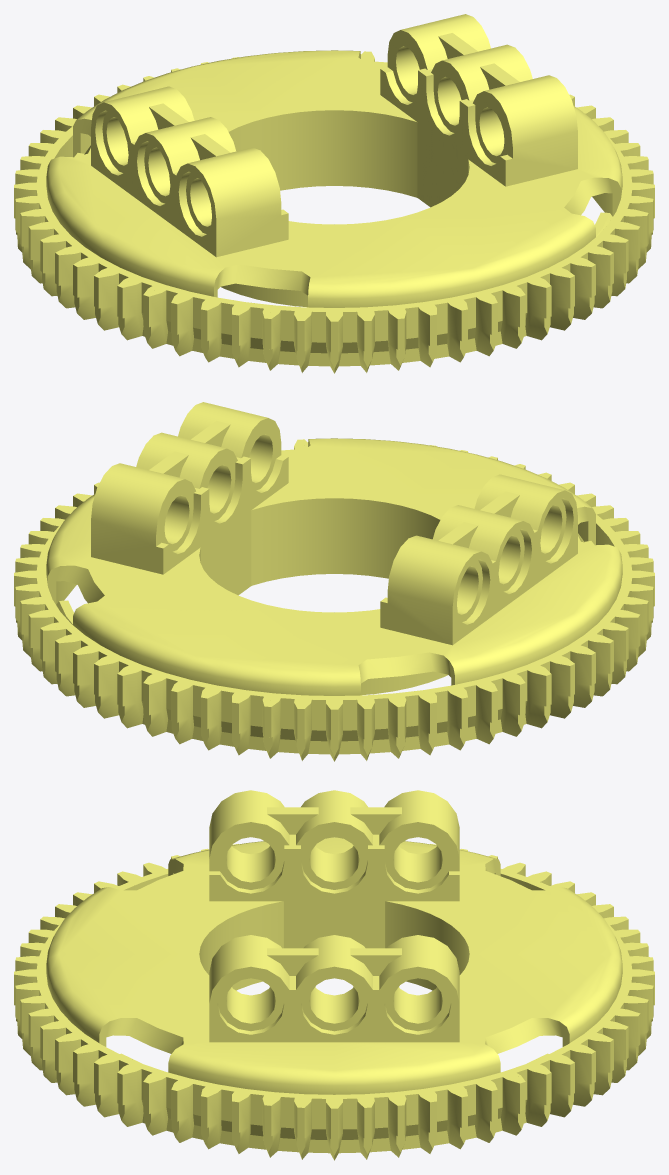
The picture shows the model from 3 angles, top to bottom: view 1: azimuth 30°, elevation 25°; view 2: azimuth 150°, elevation 25°; view 3: azimuth 270°, elevation 25°; orthographic projection.
Parts seen in each view (by area): view 1: 18938.dat; view 2: 18938.dat; view 3: 18938.dat.
Part boxes in pixels (x1,y1,x2,y2): 18938.dat: [14, 14, 654, 373]; 18938.dat: [14, 402, 654, 761]; 18938.dat: [14, 790, 654, 1160].
Size of the model in its own units: 0.0614 by 0.016 by 0.0614.
